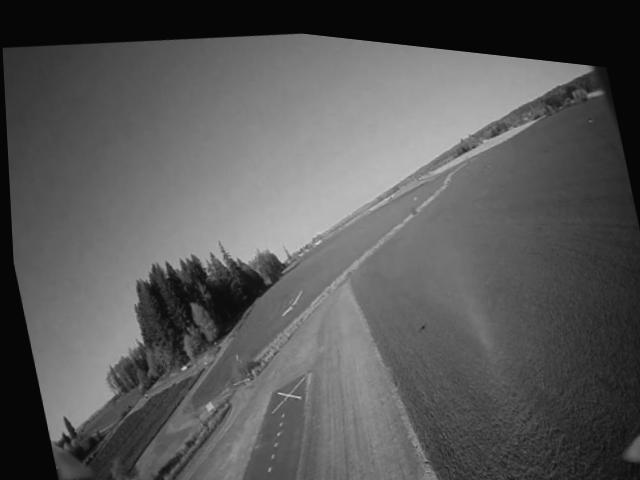hedef: (260, 272, 315, 326)
